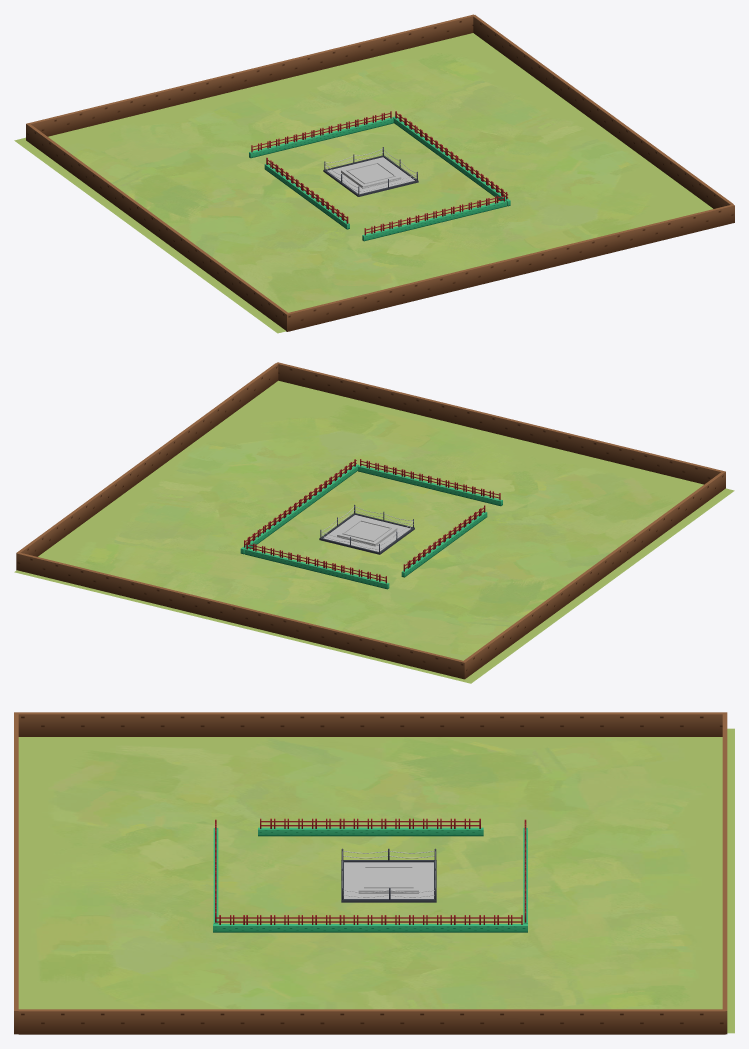
Rendered from japnes_t.fbx.
3 renders of one model, top to bottom at view 1: azimuth 30°, elevation 25°; view 2: azimuth 150°, elevation 25°; view 3: azimuth 270°, elevation 25°, orthographic. The views are drawn at different scales.
Parts seen in each view (by area): view 1: polySurface3537, polySurface5188, polySurface5189, polySurface5187, polySurface5174, polySurface5464, polySurface5466, polySurface5465, polySurface5191, polySurface5463, polySurface4503, polySurface5462; view 2: polySurface3537, polySurface5189, polySurface5188, polySurface5187, polySurface5174, polySurface5464, polySurface5466, polySurface5465, polySurface5191, polySurface5463, polySurface4503; view 3: polySurface3537, polySurface5174, polySurface5187, polySurface5465, polySurface5463, polySurface5191, polySurface5189, polySurface4503, polySurface5188, polySurface5462, polySurface5466.
Part boxes in pixels (x1=…): polySurface3537: x1=14, y1=33, x2=712, y2=333; polySurface5188: x1=285, y1=204, x2=734, y2=331; polySurface5189: x1=26, y1=14, x2=473, y2=140; polySurface5187: x1=26, y1=123, x2=287, y2=329; polySurface5174: x1=472, y1=15, x2=733, y2=208; polySurface5464: x1=249, y1=111, x2=393, y2=158; polySurface5466: x1=362, y1=194, x2=506, y2=241; polySurface5465: x1=392, y1=111, x2=510, y2=206; polySurface5191: x1=323, y1=155, x2=418, y2=196; polySurface5463: x1=264, y1=157, x2=349, y2=229; polySurface4503: x1=341, y1=161, x2=401, y2=188; polySurface5462: x1=324, y1=147, x2=417, y2=194; polySurface3537: x1=14, y1=380, x2=734, y2=683; polySurface5189: x1=16, y1=552, x2=465, y2=679; polySurface5188: x1=276, y1=362, x2=725, y2=488; polySurface5187: x1=463, y1=472, x2=724, y2=678; polySurface5174: x1=16, y1=363, x2=278, y2=556; polySurface5464: x1=244, y1=542, x2=389, y2=589; polySurface5466: x1=358, y1=459, x2=502, y2=506; polySurface5465: x1=240, y1=459, x2=358, y2=554; polySurface5191: x1=319, y1=513, x2=414, y2=554; polySurface5463: x1=401, y1=505, x2=487, y2=577; polySurface4503: x1=337, y1=518, x2=397, y2=546; polySurface3537: x1=18, y1=728, x2=734, y2=1033; polySurface5174: x1=18, y1=1009, x2=725, y2=1034; polySurface5187: x1=18, y1=712, x2=725, y2=736; polySurface5465: x1=213, y1=915, x2=527, y2=932; polySurface5463: x1=258, y1=818, x2=483, y2=836; polySurface5191: x1=341, y1=860, x2=436, y2=902; polySurface5189: x1=722, y1=712, x2=727, y2=1034; polySurface4503: x1=358, y1=865, x2=418, y2=893; polySurface5188: x1=14, y1=712, x2=18, y2=1034; polySurface5462: x1=341, y1=848, x2=436, y2=899; polySurface5466: x1=213, y1=819, x2=218, y2=923.
Size of the model in its own units: 541 by 20.51 by 540.
